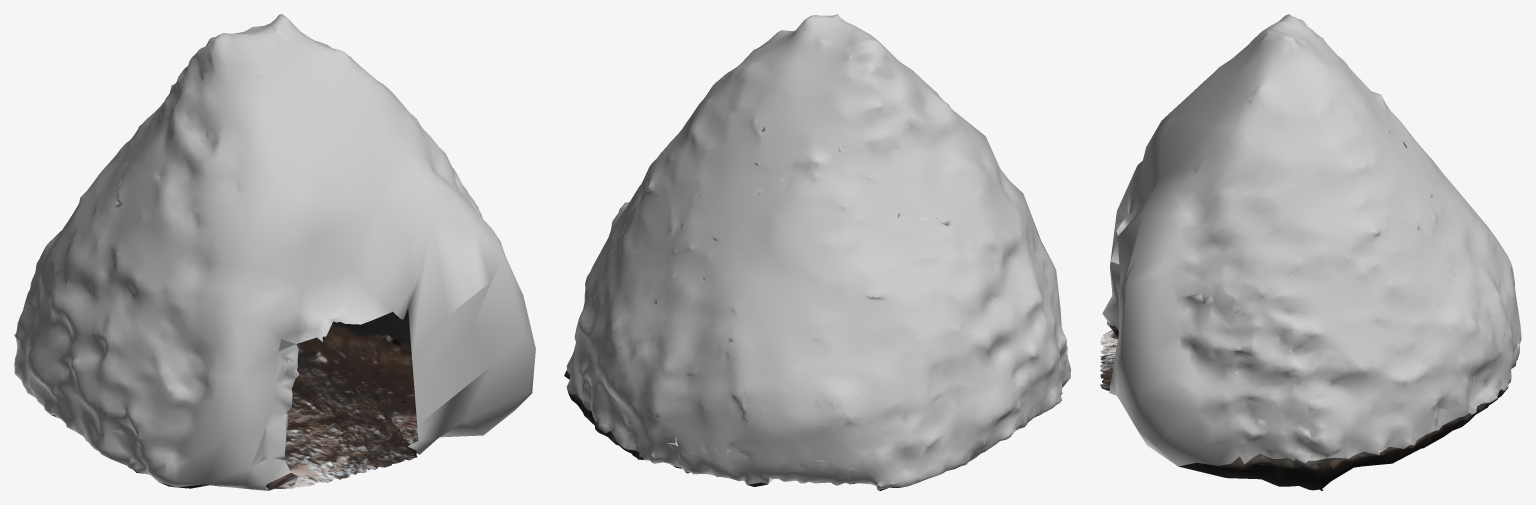
File: Tafos200_Inside2.fbx
The picture shows the model from 3 angles, left to right: view 1: azimuth 30°, elevation 25°; view 2: azimuth 150°, elevation 25°; view 3: azimuth 270°, elevation 25°; orthographic projection. The views are drawn at different scales.
Visible parts, largest first — view 1: Tafos200-video134405; view 2: Tafos200-video134405; view 3: Tafos200-video134405.
Part boxes in pixels (x1=…): Tafos200-video134405: x1=14, y1=14, x2=535, y2=490; Tafos200-video134405: x1=564, y1=14, x2=1070, y2=490; Tafos200-video134405: x1=1100, y1=14, x2=1521, y2=490.
Size of the model in its own units: 308 by 286 by 281.
